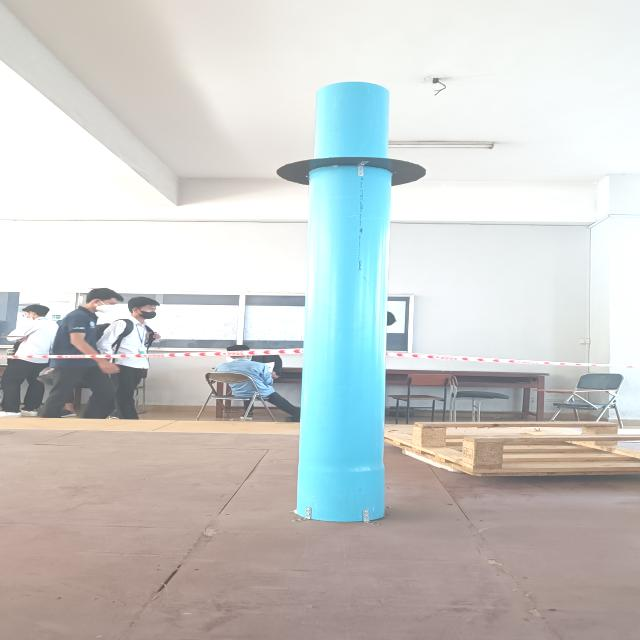pole: (242, 76, 456, 246)
